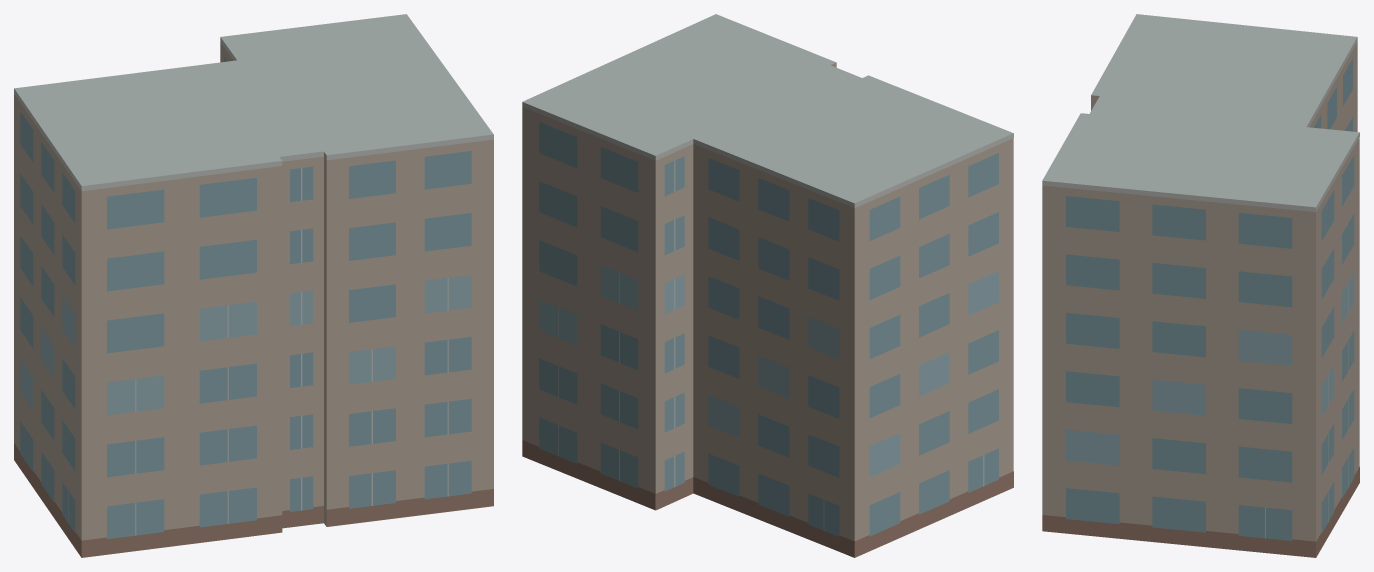
Rendered from survey-upis-32533905.glb.
The picture shows the model from 3 angles, left to right: view 1: azimuth 30°, elevation 25°; view 2: azimuth 150°, elevation 25°; view 3: azimuth 270°, elevation 25°; orthographic projection. The views are drawn at different scales.
Parts seen in each view (by area): view 1: survey-upis-32533905.tmp; view 2: survey-upis-32533905.tmp; view 3: survey-upis-32533905.tmp.
Part boxes in pixels (x1,y1,x2,y2): survey-upis-32533905.tmp: (14, 14, 493, 557); survey-upis-32533905.tmp: (522, 14, 1013, 557); survey-upis-32533905.tmp: (1042, 14, 1359, 557).
Bounding box in the file's own units: 21.07 × 17.8 × 14.62.
